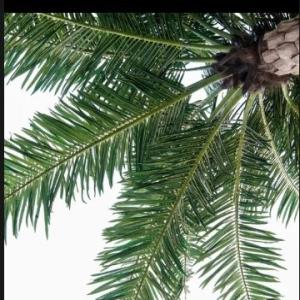palm tree: (3, 11, 299, 299)
